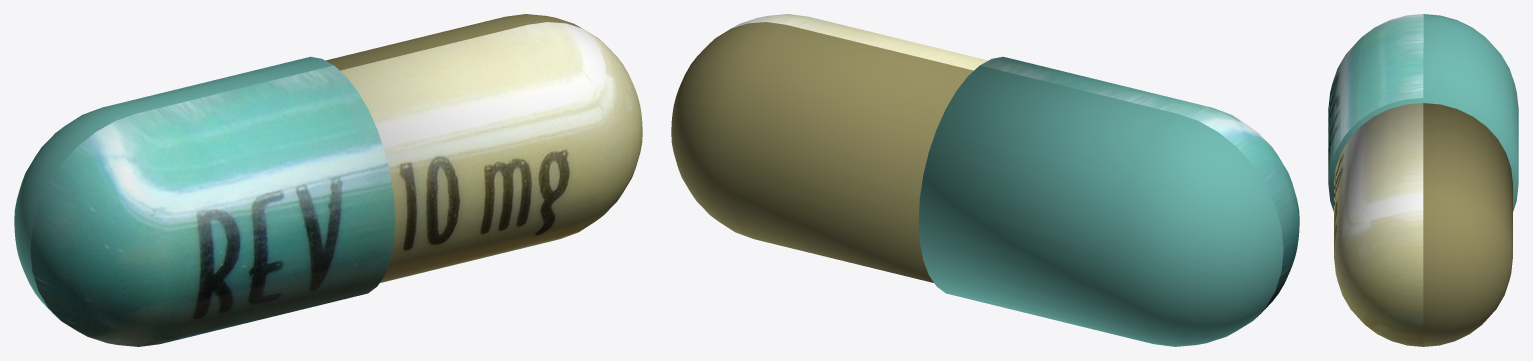
The model's file is 20161031GOPHDRGPT22780.fbx.
The picture shows the model from 3 angles, left to right: view 1: azimuth 30°, elevation 25°; view 2: azimuth 150°, elevation 25°; view 3: azimuth 270°, elevation 25°; orthographic projection. The views are drawn at different scales.
Visible parts, largest first — view 1: 球體.006; view 2: 球體.006; view 3: 球體.006.
Part boxes in pixels (bbox=[...]): 球體.006: bbox=[14, 14, 642, 346]; 球體.006: bbox=[671, 14, 1299, 346]; 球體.006: bbox=[1328, 14, 1518, 346].
Bounding box in the file's own units: 119 × 42.27 × 42.27.
